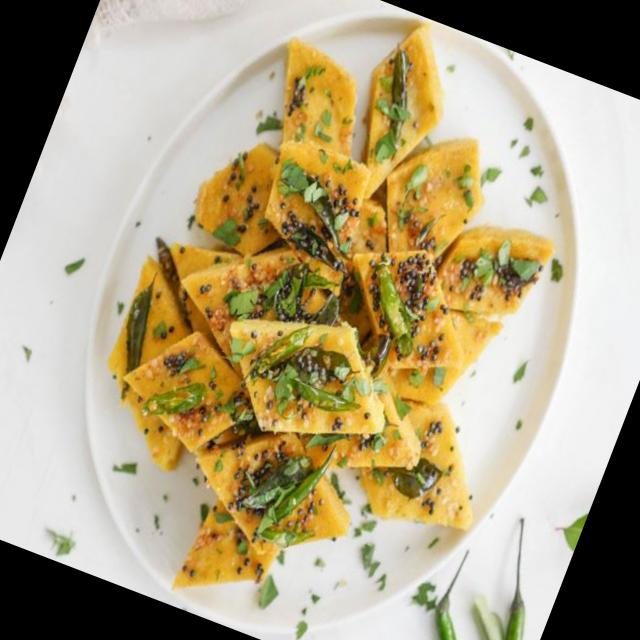dhokla: (40, 0, 632, 640)
